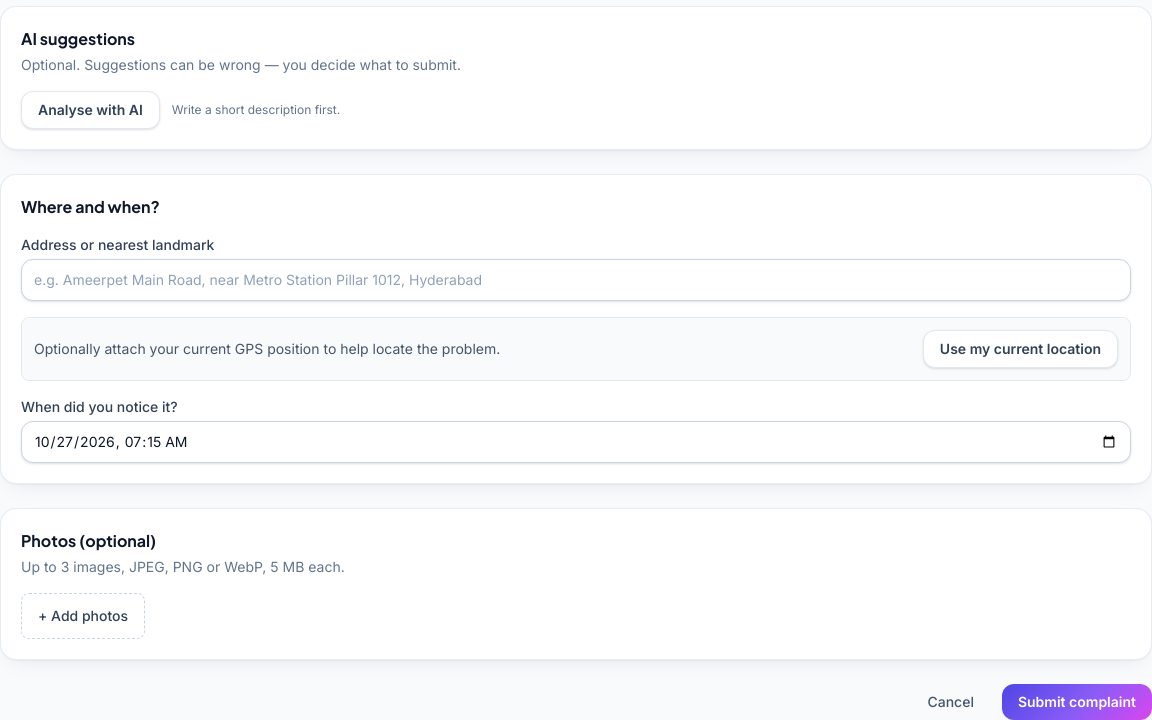
Scenario: shows validation errors and does not submit an incomplete form
(page scrolled)
Click the button "Submit complaint": (1077, 702) [1002,684,1151,719]
(page scrolled)
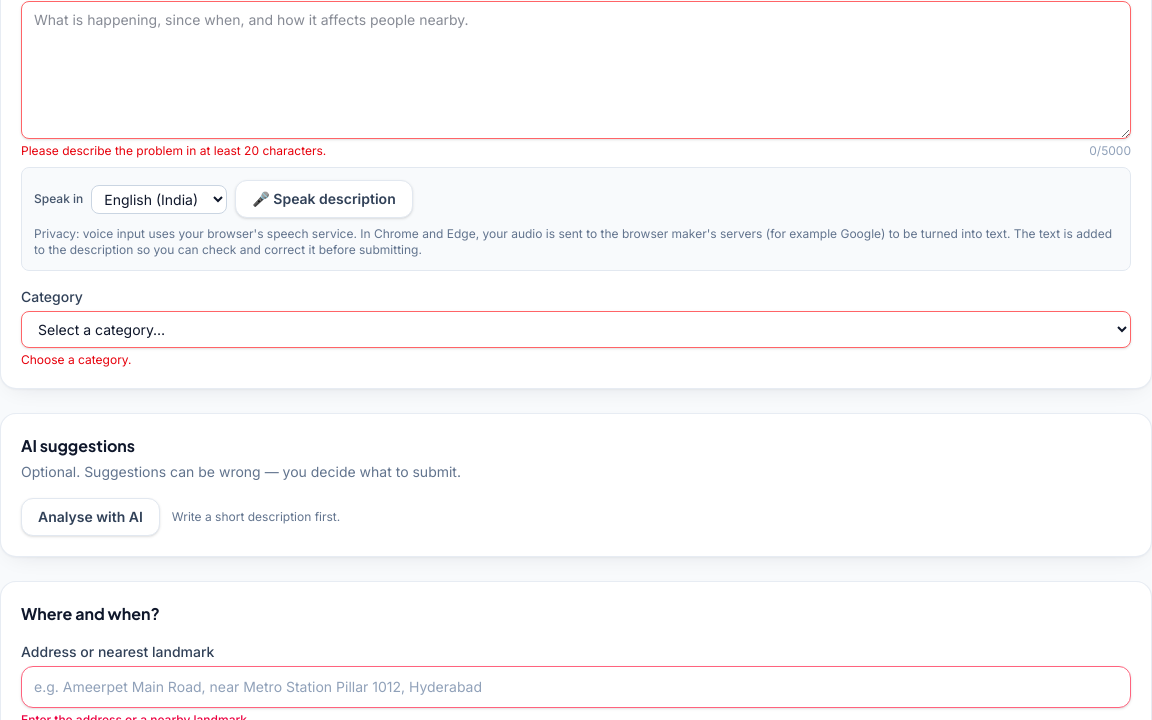
Now the text "Please describe the problem in at least 20 characters." is shown, box [21,143,326,159]
Now the text "Choose a category." is shown, box [21,352,132,367]
